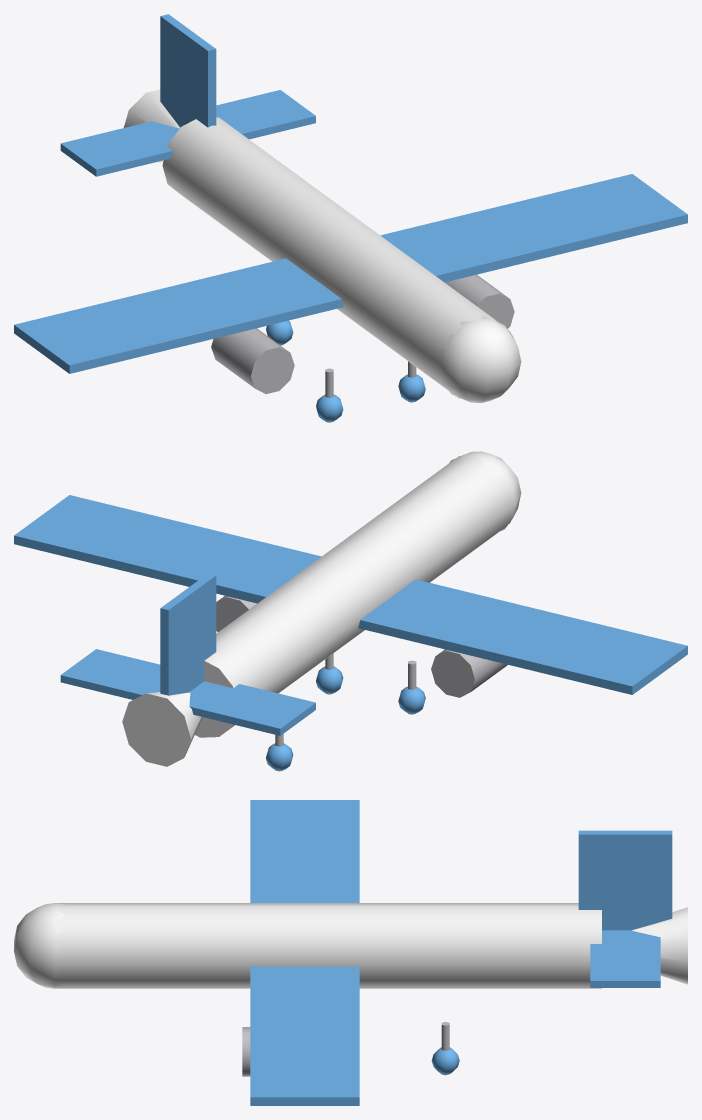
Rendered from aviao.glb.
The picture shows the model from 3 angles, top to bottom: view 1: azimuth 30°, elevation 25°; view 2: azimuth 150°, elevation 25°; view 3: azimuth 270°, elevation 25°; orthographic projection.
Visible parts, largest first — view 1: root; view 2: root; view 3: root.
Part boxes in pixels (x1=…): root: x1=14, y1=14, x2=687, y2=422; root: x1=14, y1=451, x2=687, y2=771; root: x1=14, y1=800, x2=687, y2=1105.
Bounding box in the file's own units: 9 × 3.4 × 8.62.
